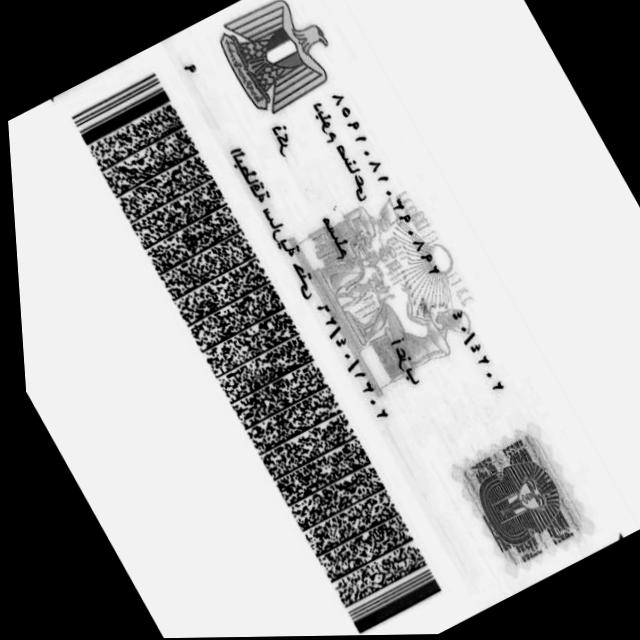id_card: (40, 0, 627, 639)
